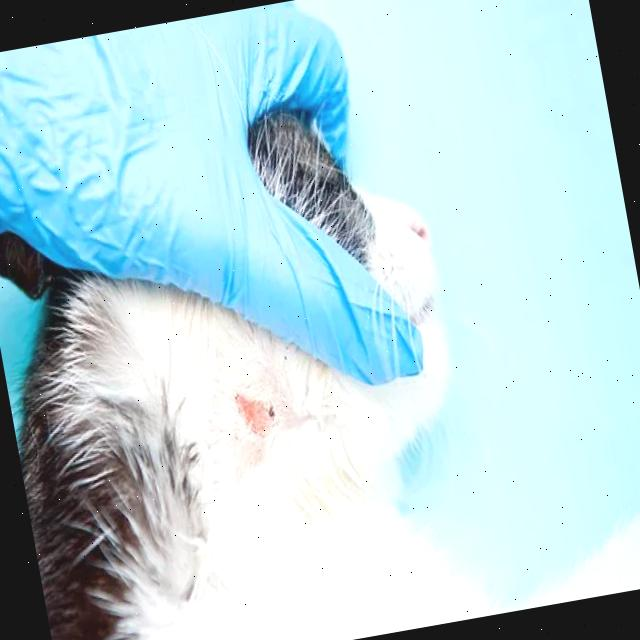cat-ringworm: (232, 383, 278, 442)
